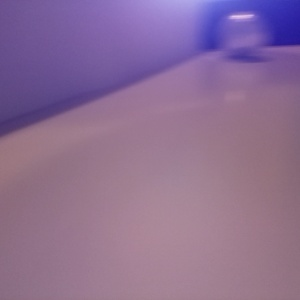alive_ball: (80, 11, 133, 69)
